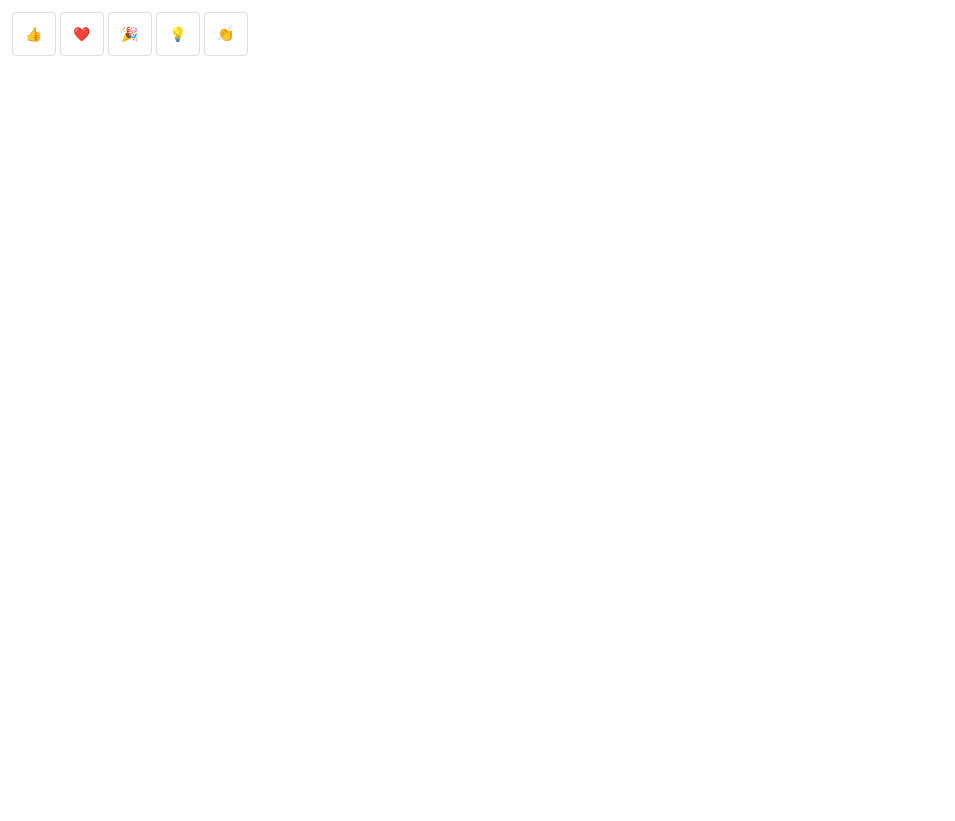
Test: ReactionGroup, on the detail surface › reverts the optimistic pick when the request fails
Click the button named "react with 👍" at [34, 34], box [12,12,56,56]
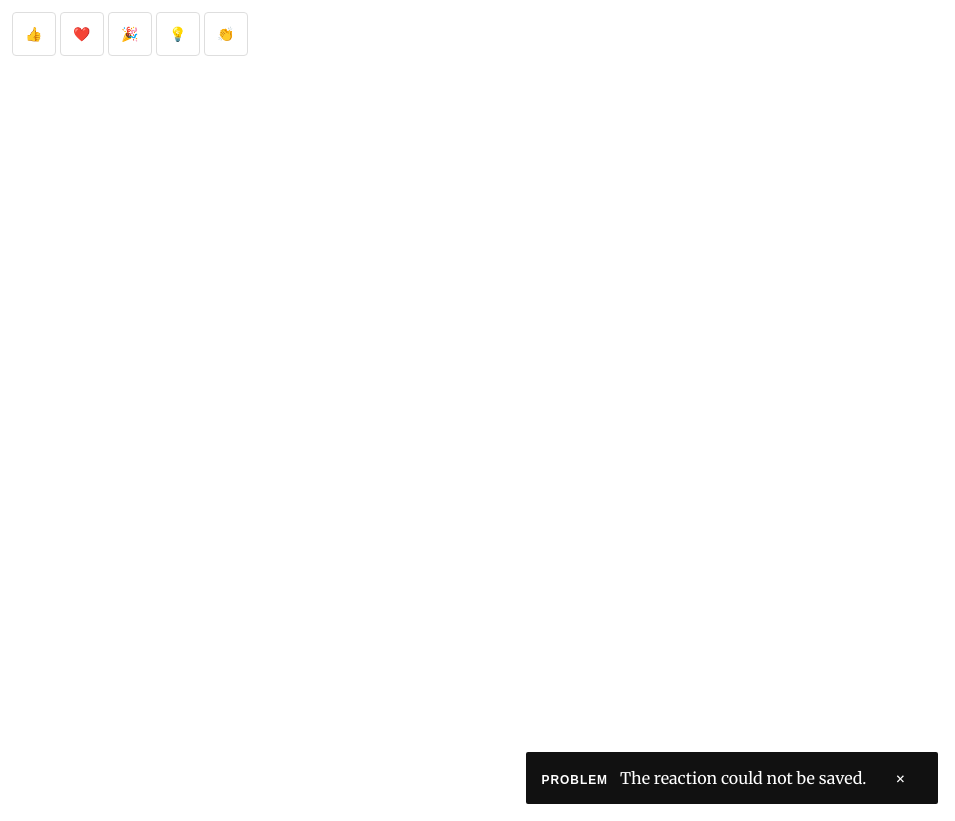
Expected: the message shows "The reaction could not be saved.", [620,768,866,788]
